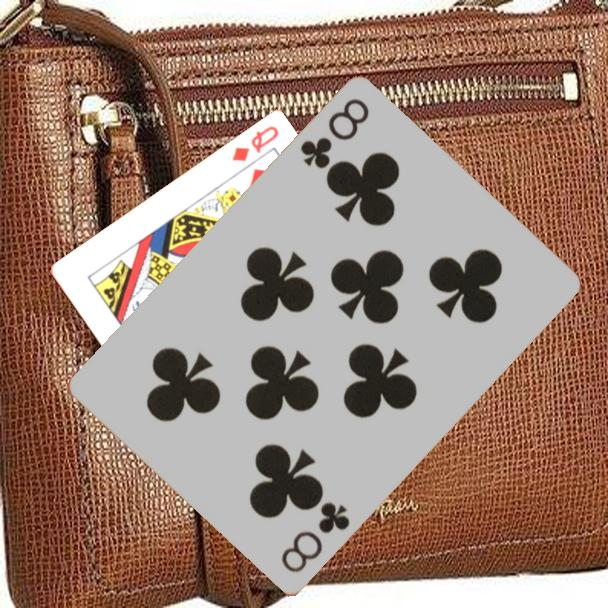c08: (296, 95, 373, 173), (277, 499, 353, 577)
d12: (228, 123, 282, 165)
